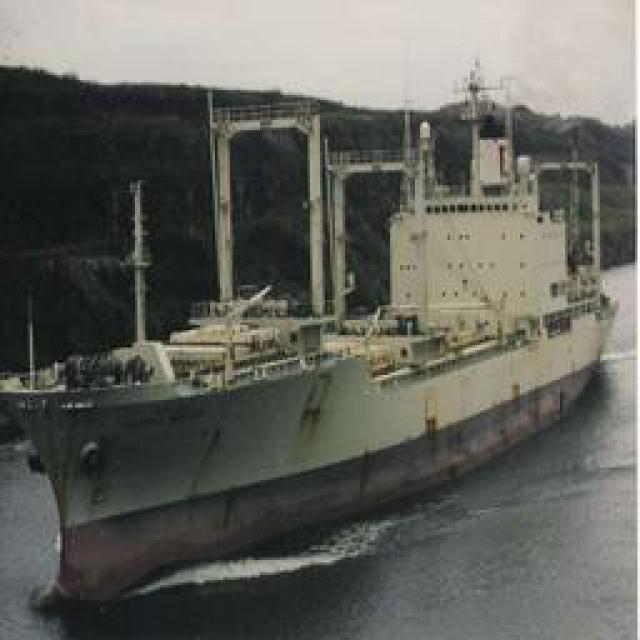Ship: (10, 59, 623, 619)
